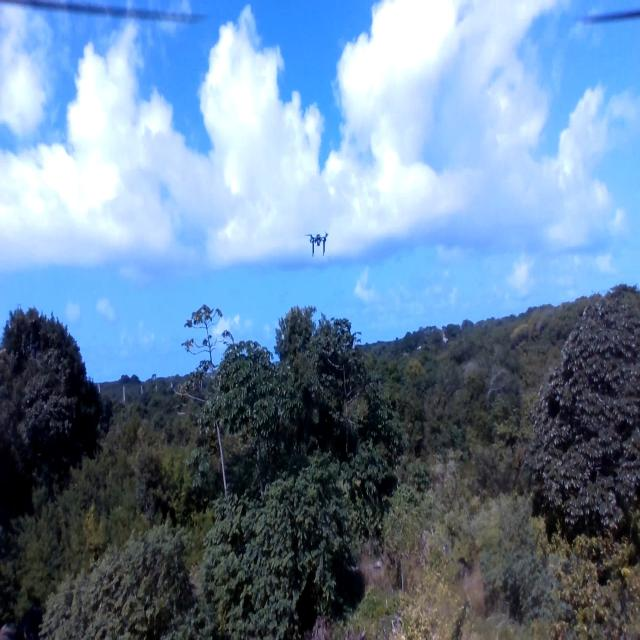-uav-: (299, 219, 335, 266)
